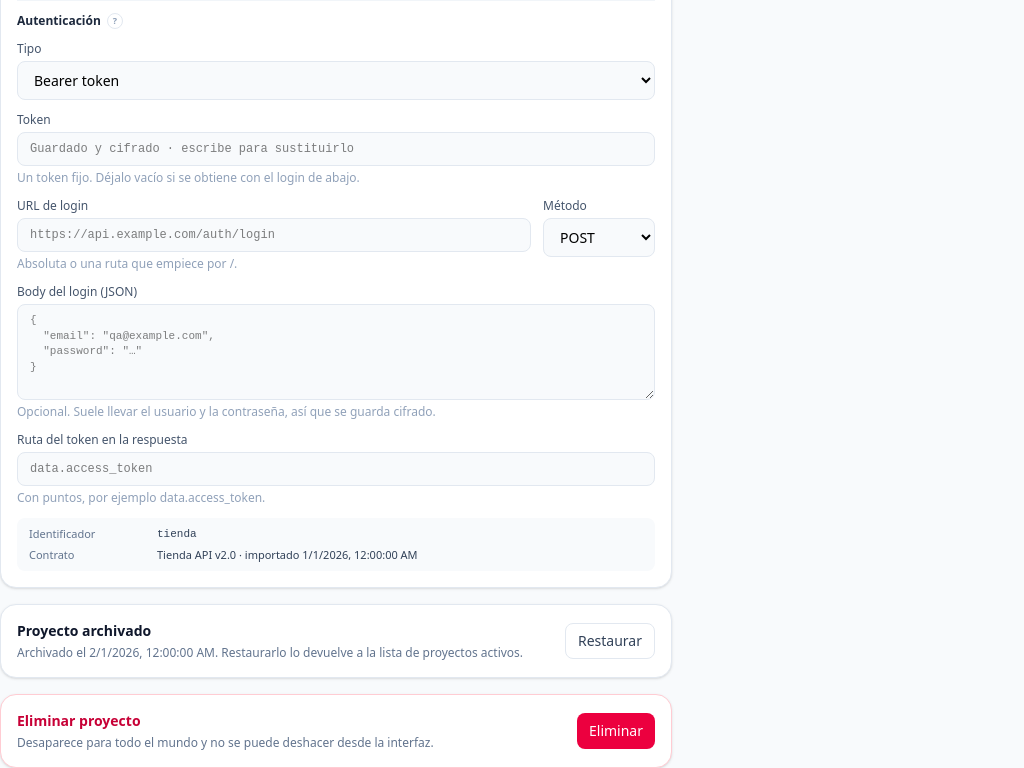
Test case: ProjectGeneralPage › un archivado no deja editar y se restaura sin confirmación; un fallo se dice
(page scrolled)
Click the button "Restaurar" at (610, 641), box left=565, top=623, right=655, bottom=659
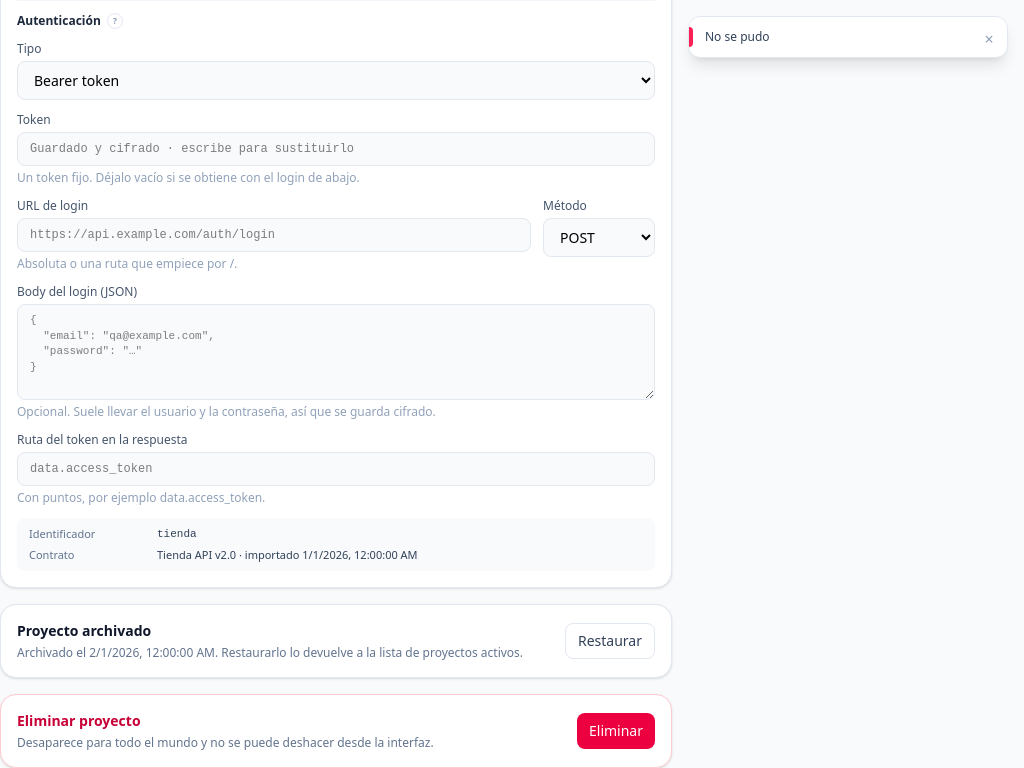
Now the text "No se pudo" is shown, box left=705, top=28, right=770, bottom=45
